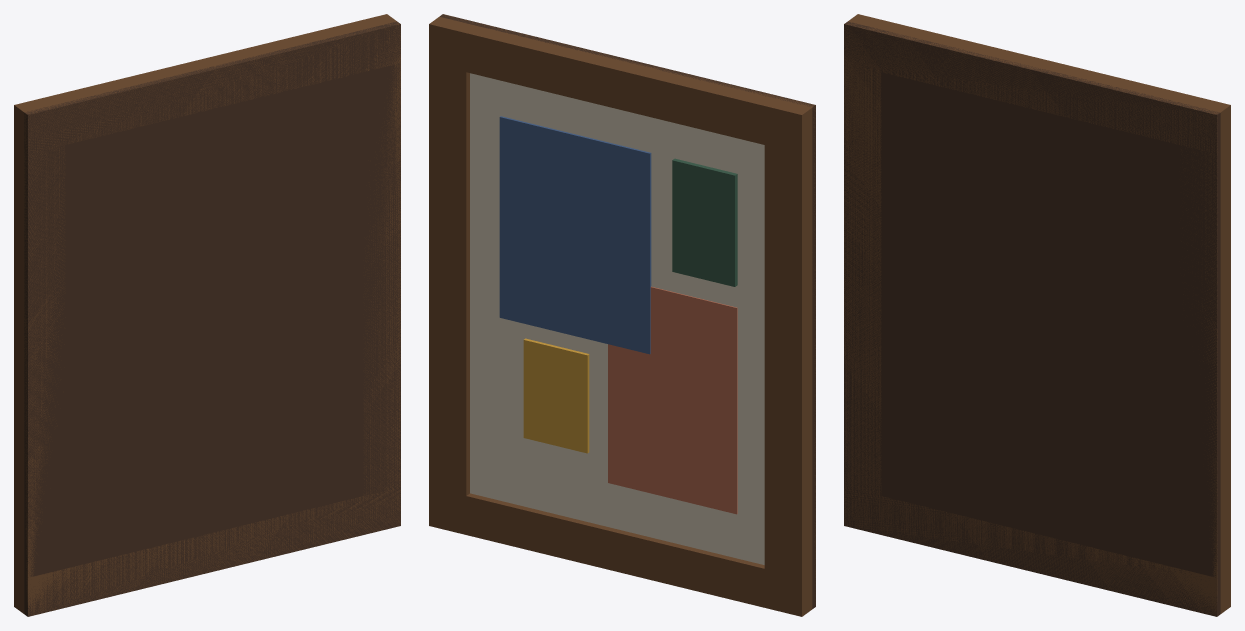
The model's file is FN_Art_Framed.glb.
3 renders of one model, left to right at view 1: azimuth 30°, elevation 25°; view 2: azimuth 150°, elevation 25°; view 3: azimuth 330°, elevation 25°, orthographic.
Visible parts, largest first — view 1: FN_Art_Framed; view 2: FN_Art_Framed; view 3: FN_Art_Framed.
Boxes of the visible parts, x1=… form: FN_Art_Framed: x1=14, y1=14, x2=400, y2=616; FN_Art_Framed: x1=429, y1=14, x2=815, y2=616; FN_Art_Framed: x1=844, y1=14, x2=1230, y2=616.
Bounding box in the file's own units: 0.7 × 0.9 × 0.045.
Materials: 1 (1 with a texture image).
